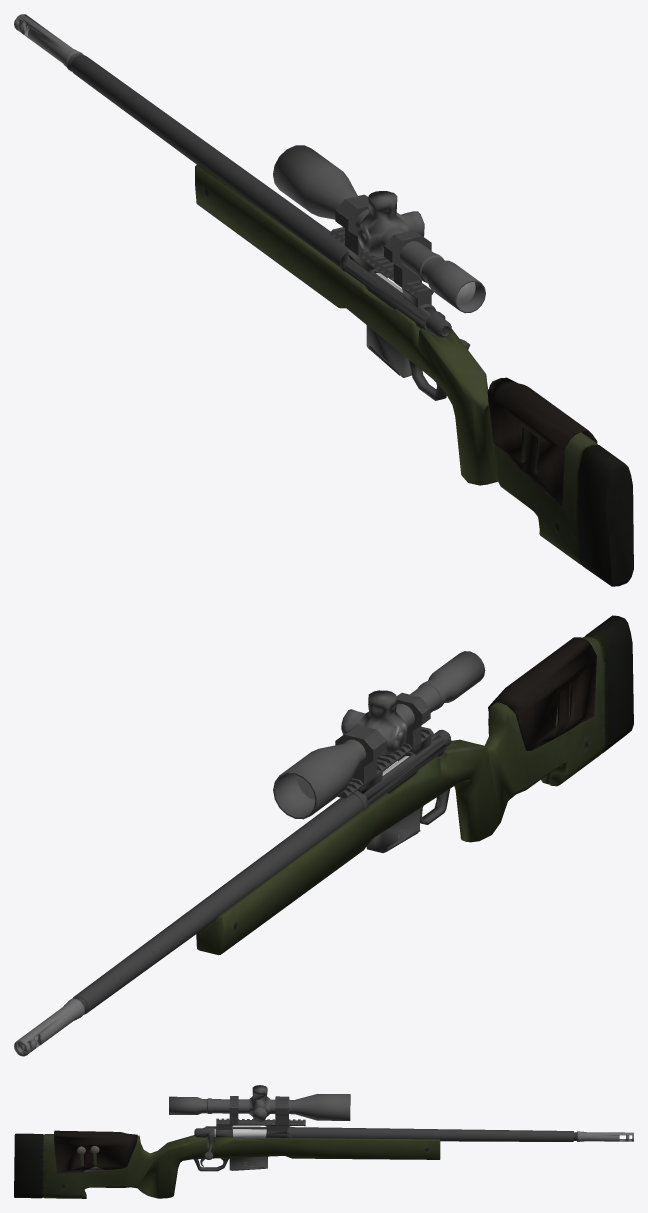
Rendered from sniper_far.glb.
The picture shows the model from 3 angles, top to bottom: view 1: azimuth 30°, elevation 25°; view 2: azimuth 150°, elevation 25°; view 3: azimuth 270°, elevation 25°; orthographic projection. The views are drawn at different scales.
Visible parts, largest first — view 1: body_02___Default, body_03___Default, body_07___Default; view 2: body_02___Default, body_03___Default, body_07___Default; view 3: body_02___Default, body_03___Default, body_07___Default.
Part boxes in pixels (left/top/right/bottom): body_02___Default: left=195, top=145, right=633, bottom=586; body_03___Default: left=329, top=194, right=597, bottom=506; body_07___Default: left=14, top=14, right=470, bottom=349; body_02___Default: left=196, top=615, right=633, bottom=955; body_03___Default: left=335, top=637, right=596, bottom=852; body_07___Default: left=14, top=729, right=451, bottom=1056; body_02___Default: left=14, top=1085, right=440, bottom=1198; body_03___Default: left=54, top=1096, right=305, bottom=1173; body_07___Default: left=194, top=1126, right=633, bottom=1159.
Bounding box in the file's own units: 0.0629 × 0.2201 × 1.12.
3 materials, 3 textured.
